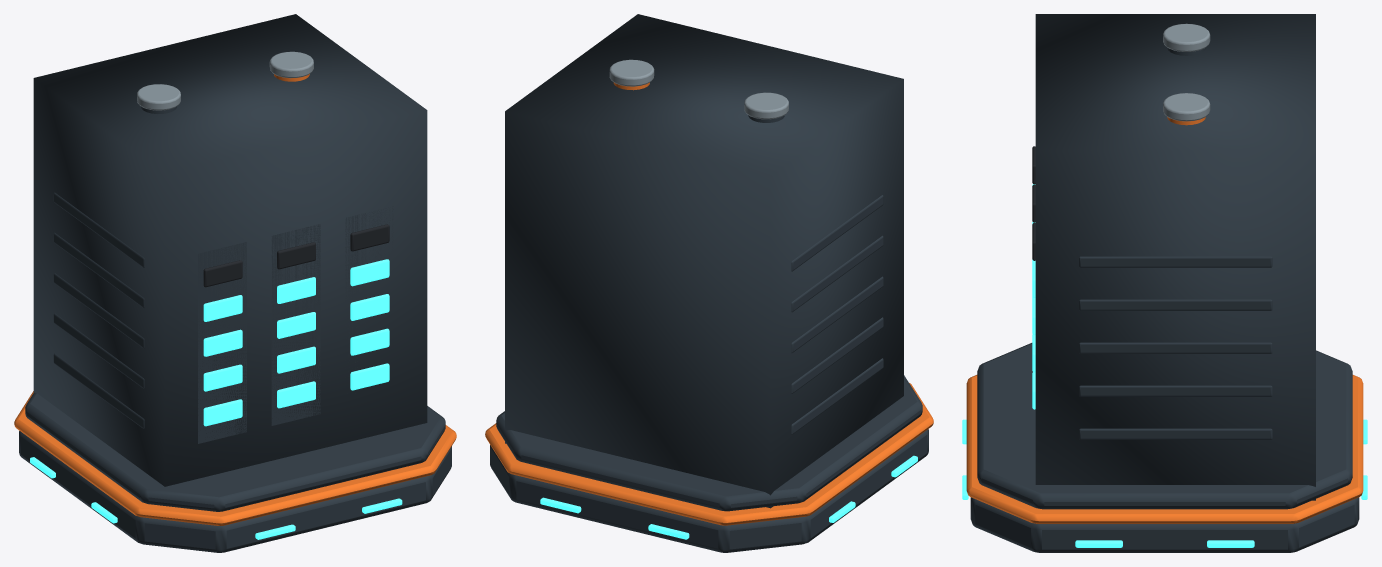
The model's file is battery.glb.
3 views of the same model, side by side, from view 1: azimuth 30°, elevation 25°; view 2: azimuth 150°, elevation 25°; view 3: azimuth 270°, elevation 25° (orthographic). The views are drawn at different scales.
Visible parts, largest first — view 1: COL_body, deck, plinth, plinth lip, cell 0, cell 1, cell 2, side fin b 1, side fin b 3, side fin b 0, side fin b 2, side fin b 4 (+17 smaller); view 2: COL_body, deck, plinth, plinth lip, side fin b 2, side fin b 3, side fin b 4, side fin b 0, side fin b 1, terminal cap 1, terminal cap -1; view 3: COL_body, deck, plinth, plinth lip, side fin 0, side fin 1, side fin 2, side fin 3, side fin 4, terminal cap 1, terminal cap -1.
Boxes of the visible parts, x1=… form: COL_body: x1=33, y1=14, x2=427, y2=486; deck: x1=25, y1=392, x2=445, y2=511; plinth: x1=19, y1=431, x2=451, y2=552; plinth lip: x1=14, y1=391, x2=456, y2=525; cell 0: x1=198, y1=242, x2=246, y2=443; cell 1: x1=271, y1=224, x2=320, y2=425; cell 2: x1=345, y1=206, x2=393, y2=369; side fin b 1: x1=53, y1=313, x2=144, y2=388; side fin b 3: x1=53, y1=232, x2=144, y2=307; side fin b 0: x1=53, y1=353, x2=144, y2=428; side fin b 2: x1=53, y1=273, x2=144, y2=348; side fin b 4: x1=53, y1=192, x2=144, y2=267; COL_body: x1=505, y1=14, x2=903, y2=508; deck: x1=496, y1=375, x2=922, y2=511; plinth: x1=490, y1=429, x2=928, y2=552; plinth lip: x1=485, y1=383, x2=933, y2=525; side fin b 2: x1=791, y1=276, x2=883, y2=352; side fin b 3: x1=791, y1=235, x2=883, y2=312; side fin b 4: x1=791, y1=195, x2=883, y2=271; side fin b 0: x1=791, y1=358, x2=883, y2=434; side fin b 1: x1=791, y1=317, x2=883, y2=393; terminal cap 1: x1=609, y1=59, x2=654, y2=86; terminal cap -1: x1=744, y1=92, x2=788, y2=119; COL_body: x1=1035, y1=14, x2=1315, y2=500; deck: x1=977, y1=343, x2=1352, y2=509; plinth: x1=970, y1=497, x2=1359, y2=552; plinth lip: x1=966, y1=375, x2=1363, y2=523; side fin 0: x1=1079, y1=428, x2=1272, y2=439; side fin 1: x1=1079, y1=385, x2=1272, y2=396; side fin 2: x1=1079, y1=342, x2=1272, y2=353; side fin 3: x1=1079, y1=299, x2=1272, y2=310; side fin 4: x1=1079, y1=256, x2=1272, y2=267; terminal cap 1: x1=1163, y1=93, x2=1210, y2=121; terminal cap -1: x1=1163, y1=23, x2=1210, y2=51.
Bounding box in the file's own units: 1.88 × 2.07 × 1.88.
